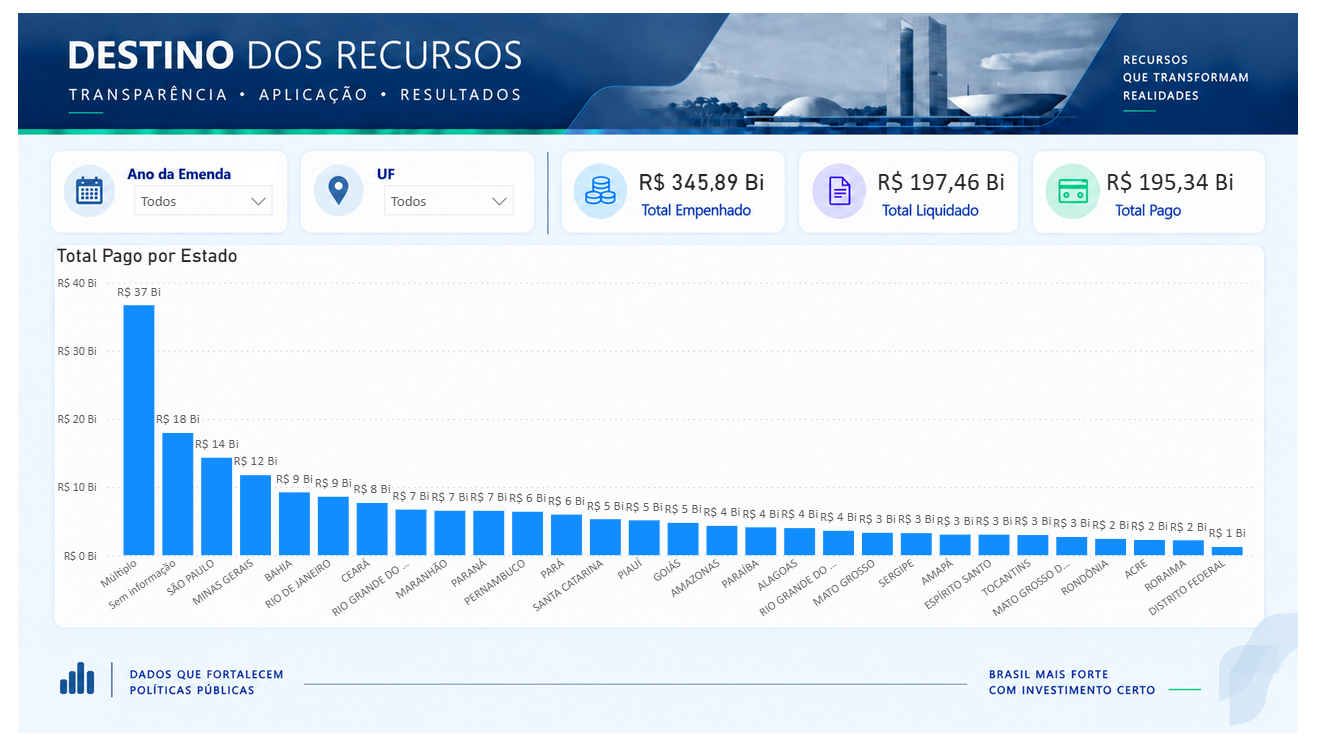

Layout of this report page (visuals, bound fields, positions):
{"tool":"powerbi","page":{"name":"Destino dos Recursos","canvas":[1280,720],"ordinal":2},"visuals":[{"type":"slicer","fields":{"Values":["EmendasParlamentares.Ano da Emenda"]},"box":[176,184,144,48],"z":0},{"type":"card","fields":{"Values":["EmendasParlamentares.Total Liquidado"]},"box":[840,171,137.9,39.4],"z":1000},{"type":"slicer","fields":{"Values":["EmendasParlamentares.UF"]},"box":[400,184,136,48],"z":2000},{"type":"card","fields":{"Values":["EmendasParlamentares.Total Pago"]},"box":[1047.8,168.4,132.5,43.9],"z":3000},{"type":"card","fields":{"Values":["EmendasParlamentares.Total Empenhado"]},"box":[627.8,160.3,133.4,60],"z":4001},{"type":"columnChart","title":"Total Pago por Estado","fields":{"Category":["EmendasParlamentares.UF"],"Y":["EmendasParlamentares.Total Pago"]},"box":[111.9,246.3,1086.3,345.7],"z":4002}]}

Visuals, with their boxes in screenshot pixels (x1, y1, x2, y2), scaled from the page's 1280x720 canvas onto the 1317x752 screenshot:
slicer - EmendasParlamentares.Ano da Emenda: [x1=181, y1=192, x2=329, y2=242]
card - EmendasParlamentares.Total Liquidado: [x1=864, y1=179, x2=1006, y2=220]
slicer - EmendasParlamentares.UF: [x1=412, y1=192, x2=551, y2=242]
card - EmendasParlamentares.Total Pago: [x1=1078, y1=176, x2=1214, y2=222]
card - EmendasParlamentares.Total Empenhado: [x1=646, y1=167, x2=783, y2=230]
"Total Pago por Estado" columnChart: [x1=115, y1=257, x2=1233, y2=618]
